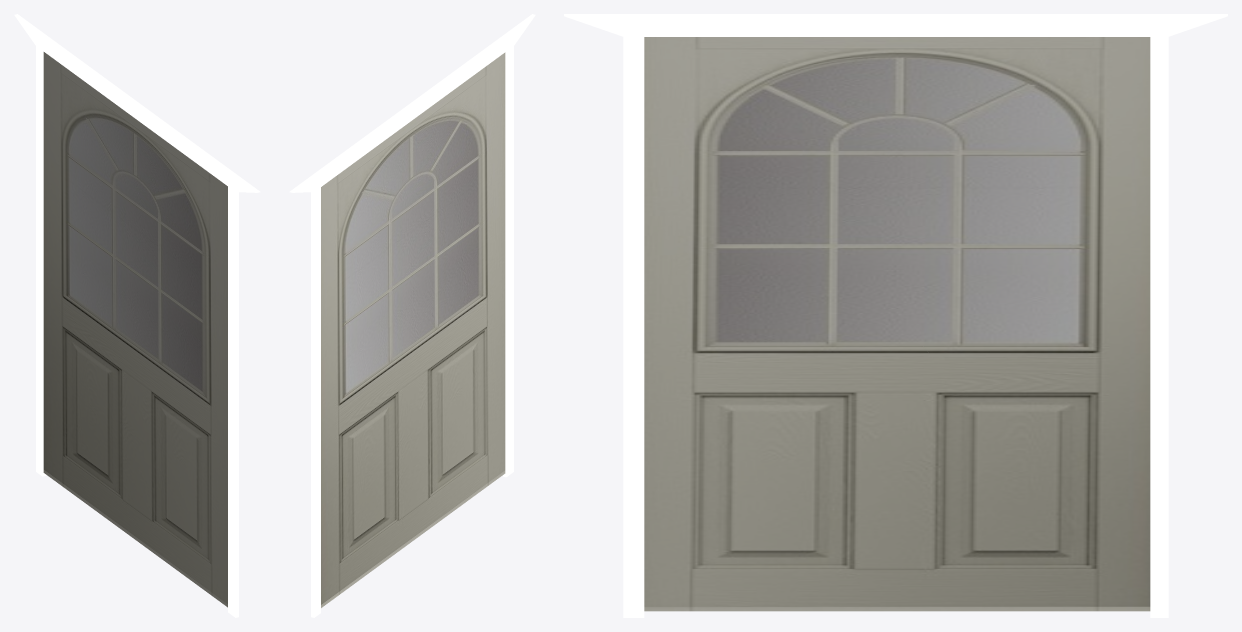
Rendered from ALiteDoor7.d7ab7ead.gltf.
3 renders of one model, left to right at view 1: azimuth 30°, elevation 25°; view 2: azimuth 150°, elevation 25°; view 3: azimuth 270°, elevation 25°, orthographic. The views are drawn at different scales.
Visible parts, largest first — view 1: Plane, Plane.001; view 2: Plane, Plane.001; view 3: Plane, Plane.001.
Boxes of the visible parts, x1,y1,x2,y2 form: Plane: (43, 52, 227, 607); Plane.001: (14, 14, 260, 617); Plane: (321, 52, 505, 607); Plane.001: (289, 14, 535, 617); Plane: (644, 37, 1150, 611); Plane.001: (564, 14, 1227, 617).
Size of the model in its own units: 0.05 by 6 by 6.
2 materials, 1 textured.
